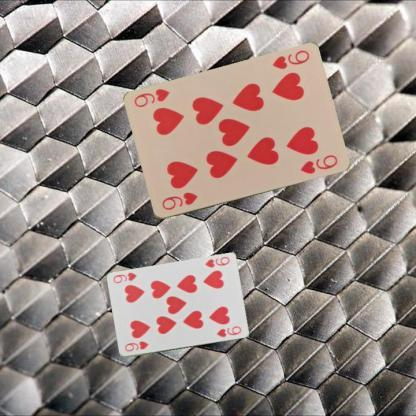9h: (270, 47, 311, 71), (158, 190, 200, 212), (202, 254, 231, 269), (122, 339, 150, 353)
